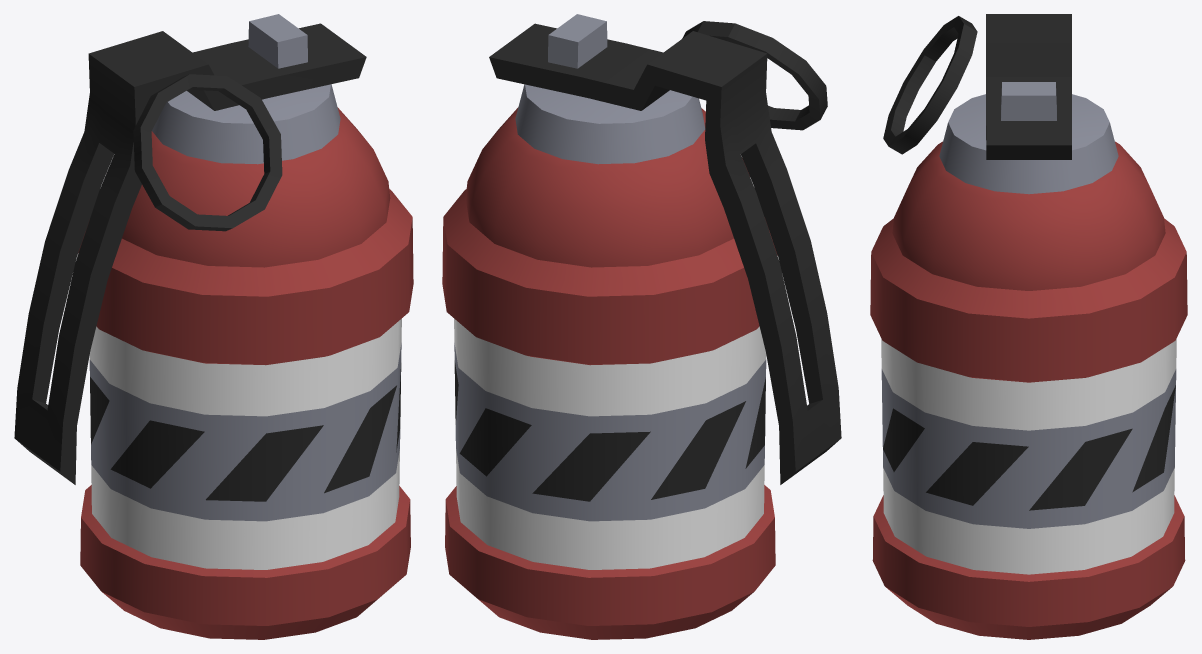
The model's file is fire_grenade.glb.
The picture shows the model from 3 angles, left to right: view 1: azimuth 30°, elevation 25°; view 2: azimuth 150°, elevation 25°; view 3: azimuth 270°, elevation 25°; orthographic projection. The views are drawn at different scales.
Visible parts, largest first — view 1: FireGrenade; view 2: FireGrenade; view 3: FireGrenade.
Boxes of the visible parts, box(x1,y1,x2,y2) form: FireGrenade: box(14, 14, 413, 639); FireGrenade: box(442, 14, 841, 639); FireGrenade: box(870, 14, 1187, 639).
Bounding box in the file's own units: 0.5695 × 0.85 × 0.4706.
